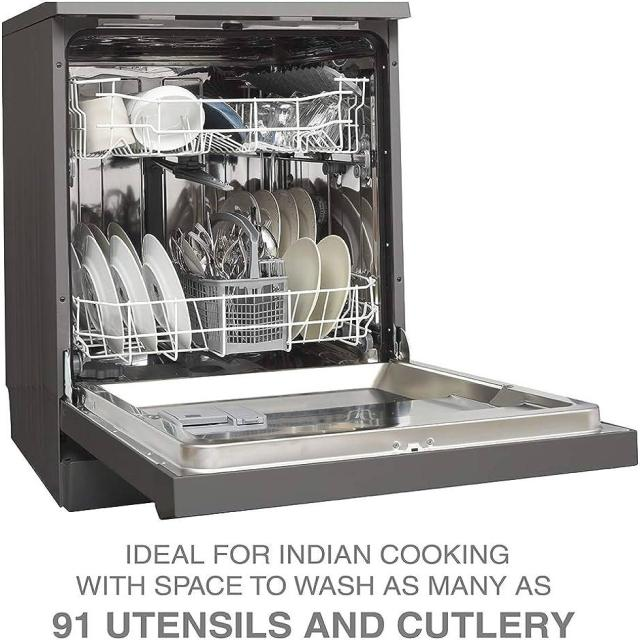dishwasher: (45, 8, 640, 536)
